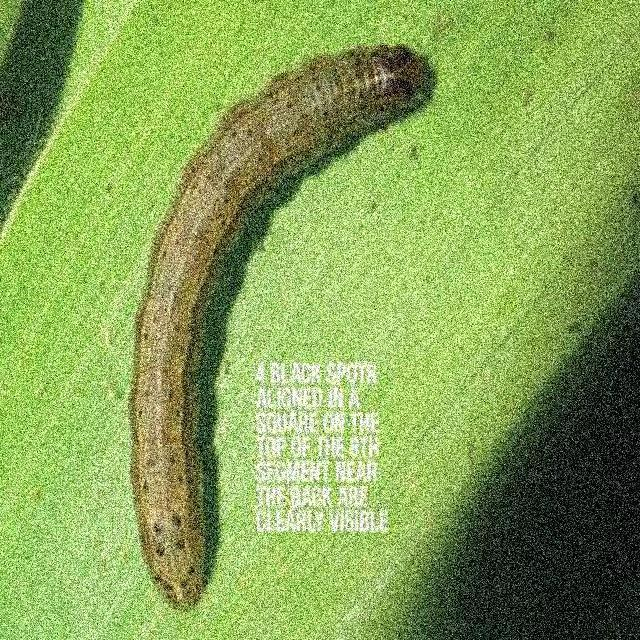Plaga: (124, 38, 437, 616)
